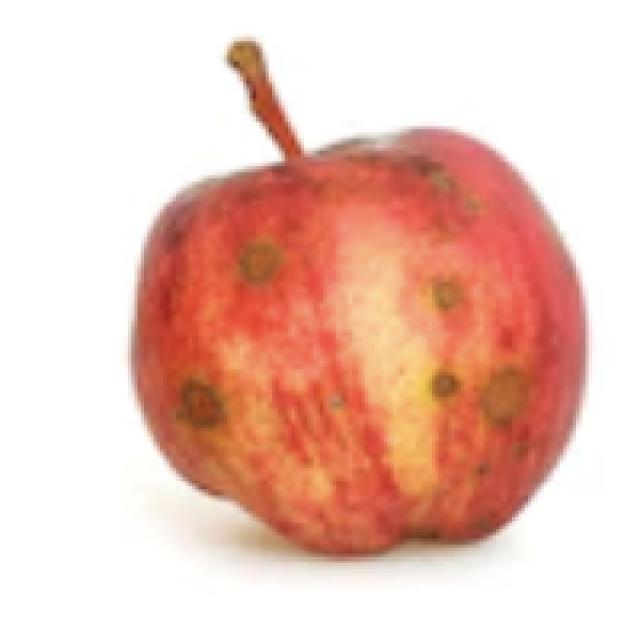Rotten: (126, 138, 566, 565)
